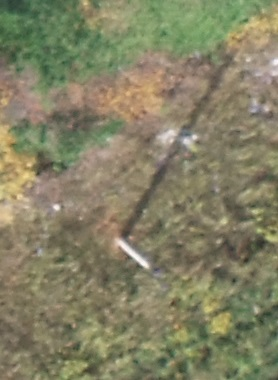opora: (112, 208, 167, 277)
